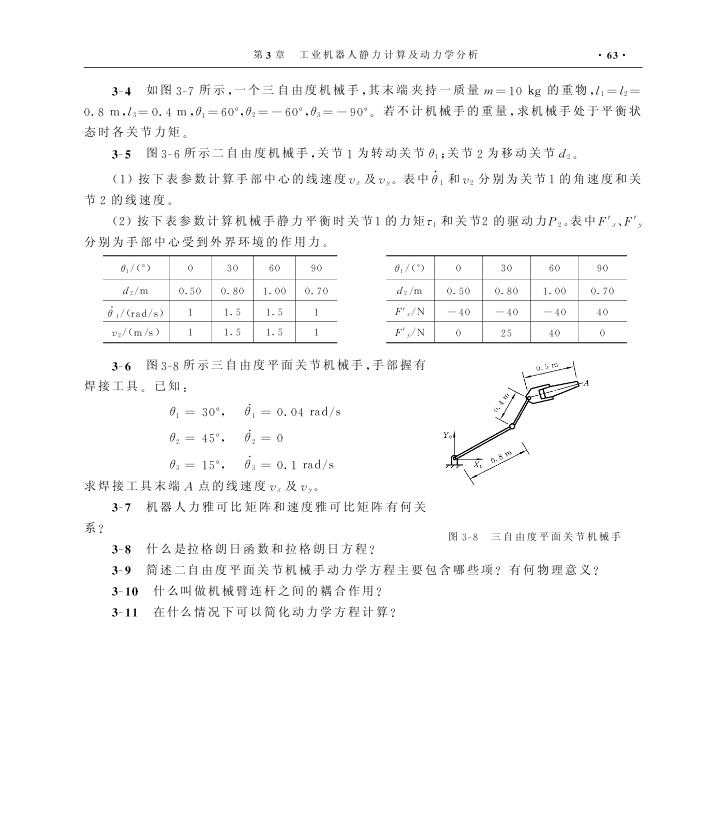table: (386, 255, 627, 343), (102, 255, 337, 344)
